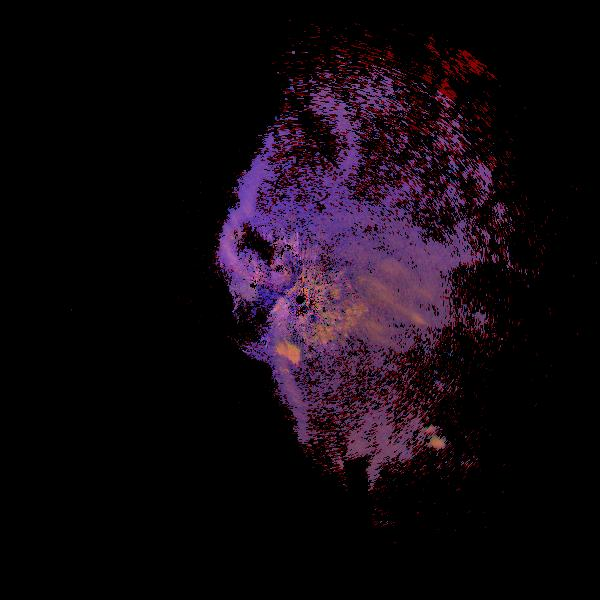roost: (257, 333, 329, 405), (411, 422, 483, 494)
